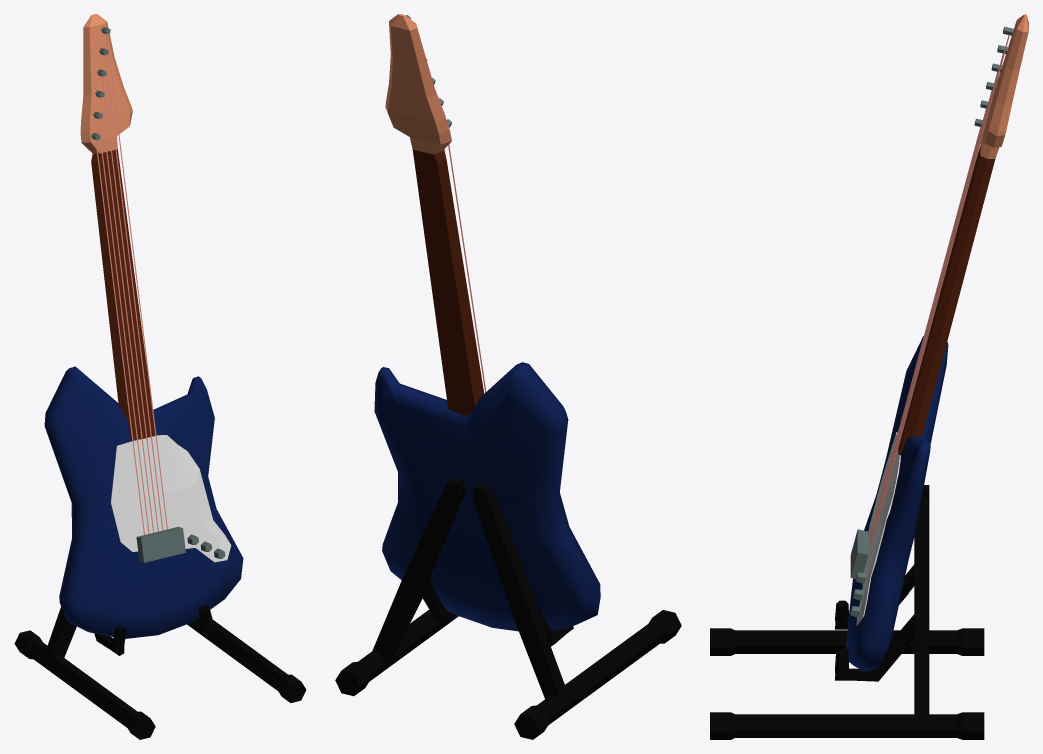
Rendered from guitar+stand.fbx.
3 views of the same model, side by side, from view 1: azimuth 30°, elevation 25°; view 2: azimuth 150°, elevation 25°; view 3: azimuth 270°, elevation 25° (orthographic). The views are drawn at different scales.
Parts seen in each view (by area): view 1: guitar.001, guitar stand; view 2: guitar.001, guitar stand; view 3: guitar.001, guitar stand.
Boxes of the visible parts, box(x1,y1,x2,y2) form: guitar.001: box(44, 14, 243, 638); guitar stand: box(14, 605, 306, 739); guitar.001: box(374, 14, 600, 631); guitar stand: box(335, 477, 681, 739); guitar.001: box(846, 14, 1028, 671); guitar stand: box(710, 485, 984, 739).
Size of the model in its own units: 43.93 by 138 by 57.88.
